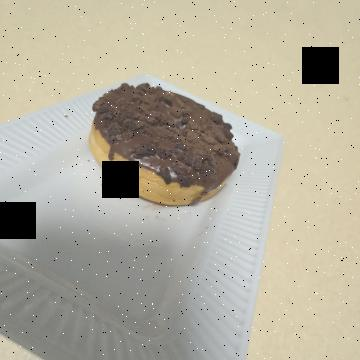doughnut: (74, 109, 224, 291)
